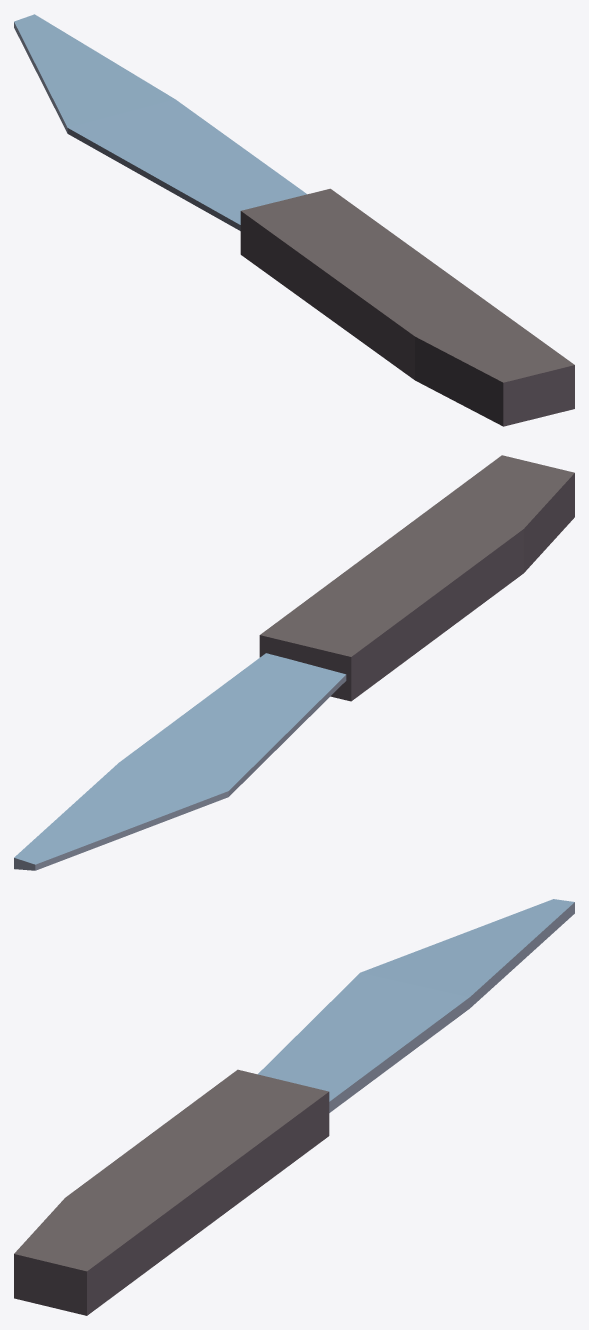
The model's file is Knife.fbx.
3 renders of one model, top to bottom at view 1: azimuth 30°, elevation 25°; view 2: azimuth 150°, elevation 25°; view 3: azimuth 330°, elevation 25°, orthographic.
Parts seen in each view (by area): view 1: Knife; view 2: Knife; view 3: Knife.
Part boxes in pixels (box(x1,y1,x2,y2)): Knife: box(14, 14, 574, 426); Knife: box(14, 455, 574, 870); Knife: box(14, 899, 574, 1315).
Bounding box in the file's own units: 7.46 × 2.64 × 55.66.
